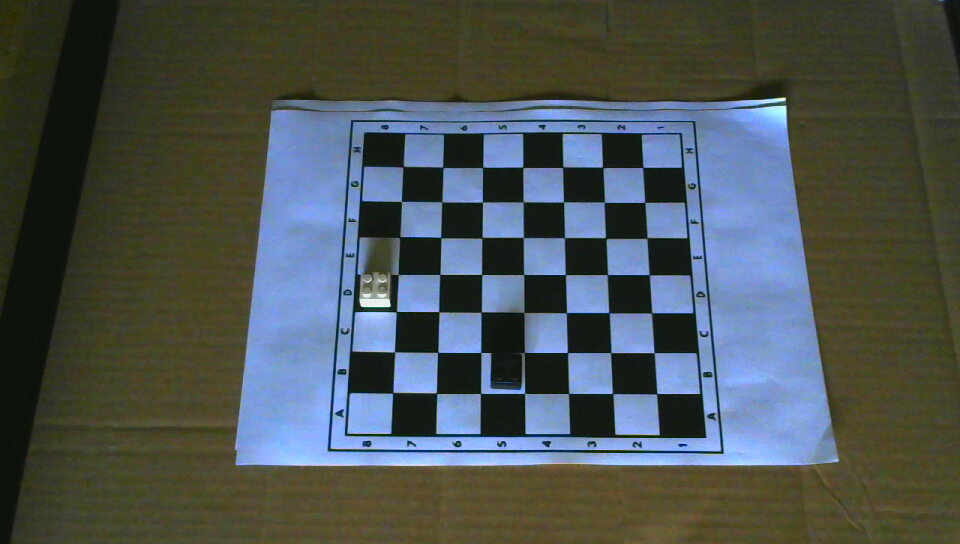bp: (488, 349, 524, 388)
wp: (357, 268, 393, 311)
